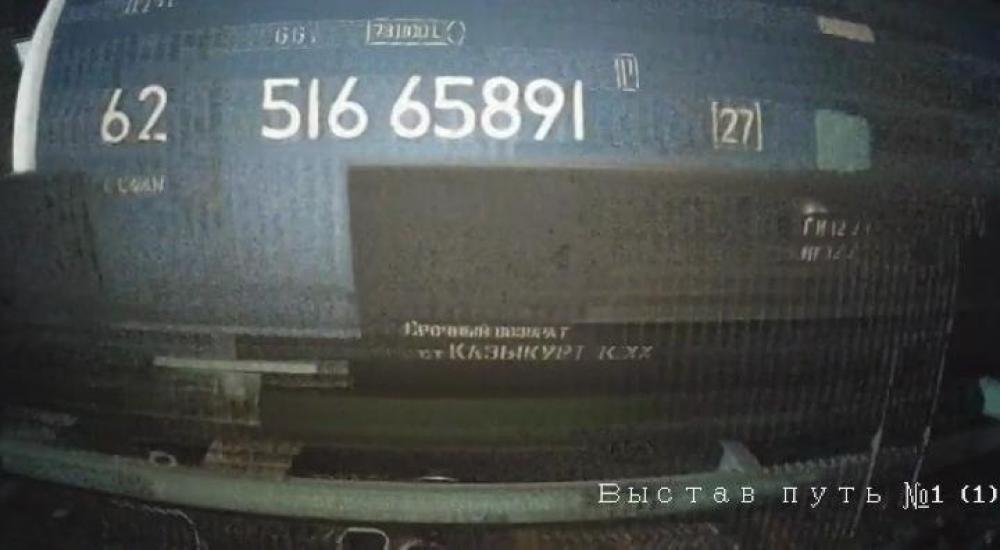Wagon-number: (255, 72, 593, 146)
